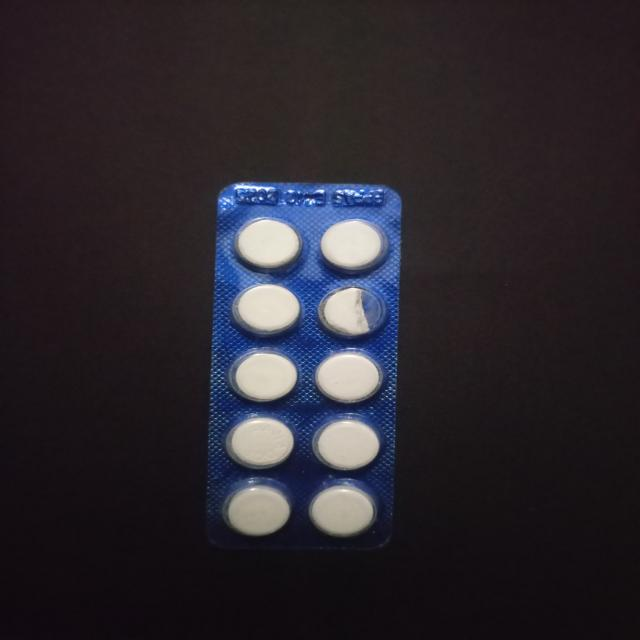defect: (314, 282, 391, 343)
